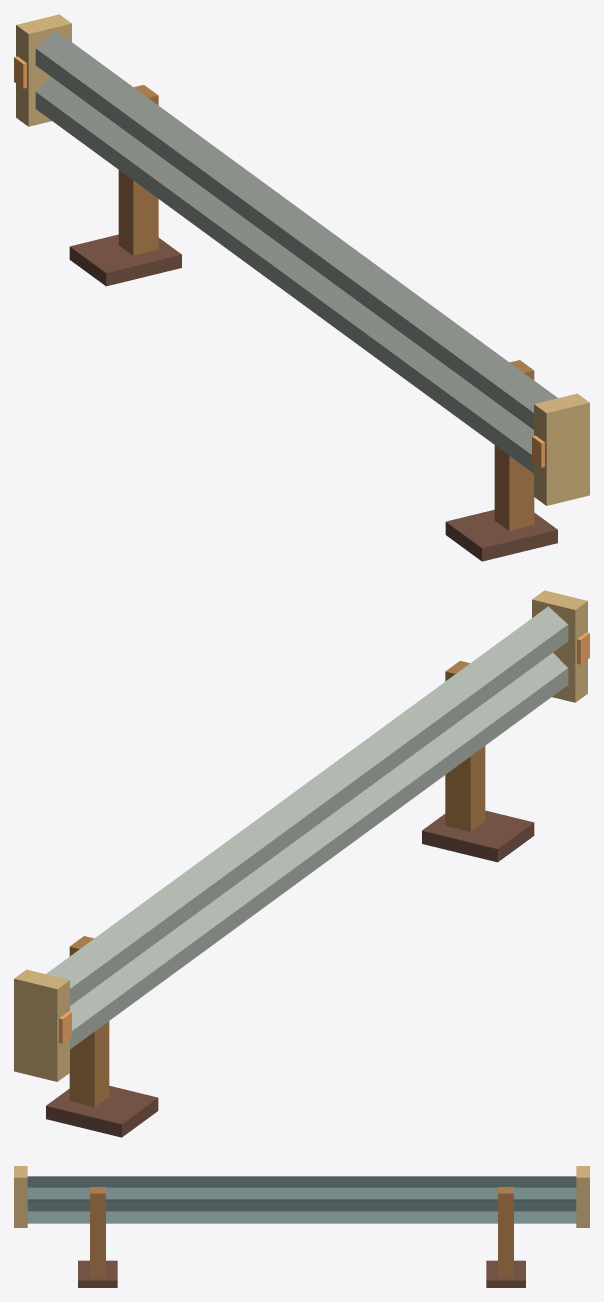
File: guardrail.glb
The picture shows the model from 3 angles, top to bottom: view 1: azimuth 30°, elevation 25°; view 2: azimuth 150°, elevation 25°; view 3: azimuth 270°, elevation 25°; orthographic projection. The views are drawn at different scales.
Visible parts, largest first — view 1: guardrail; view 2: guardrail; view 3: guardrail.
Boxes of the visible parts, <box> form: guardrail: <box>14,14,589,561</box>; guardrail: <box>14,590,589,1137</box>; guardrail: <box>14,1166,589,1287</box>.
Size of the model in its own units: 0.42 by 1 by 5.08.
Materials: 1 (1 with a texture image).
